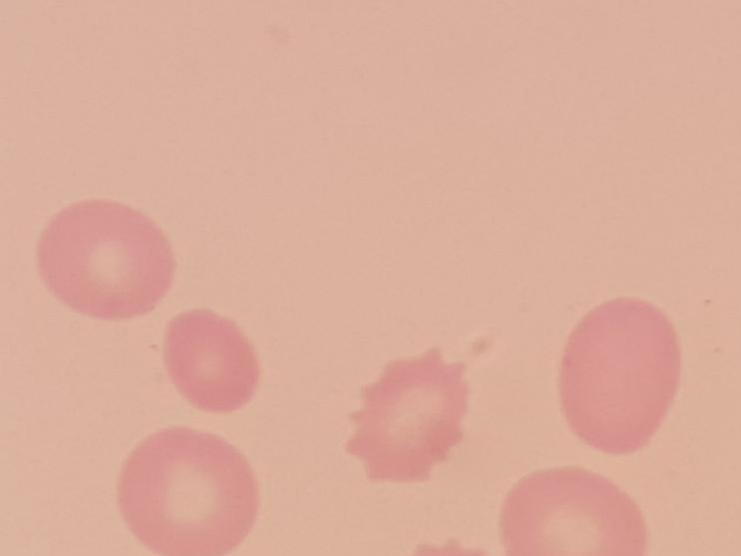Uninfected: (561, 293, 685, 456), (113, 428, 258, 556), (36, 200, 174, 322), (349, 350, 465, 488), (501, 466, 644, 556), (161, 306, 258, 412)
